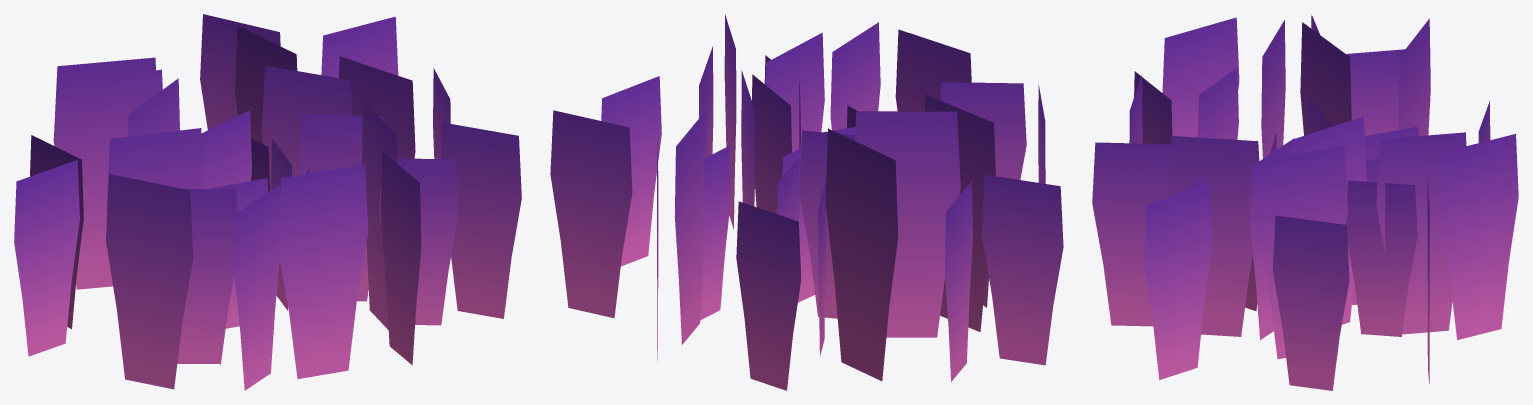
The model's file is anp_grass_3.fbx.
3 views of the same model, side by side, from view 1: azimuth 30°, elevation 25°; view 2: azimuth 150°, elevation 25°; view 3: azimuth 270°, elevation 25° (orthographic). The views are drawn at different scales.
Parts seen in each view (by area): view 1: grass3; view 2: grass3; view 3: grass3.
Boxes of the visible parts, x1,y1,x2,y2 form: grass3: (14,14,521,390); grass3: (550,14,1063,390); grass3: (1092,15,1518,390).
Bounding box in the file's own units: 81.22 × 39.17 × 69.6.
